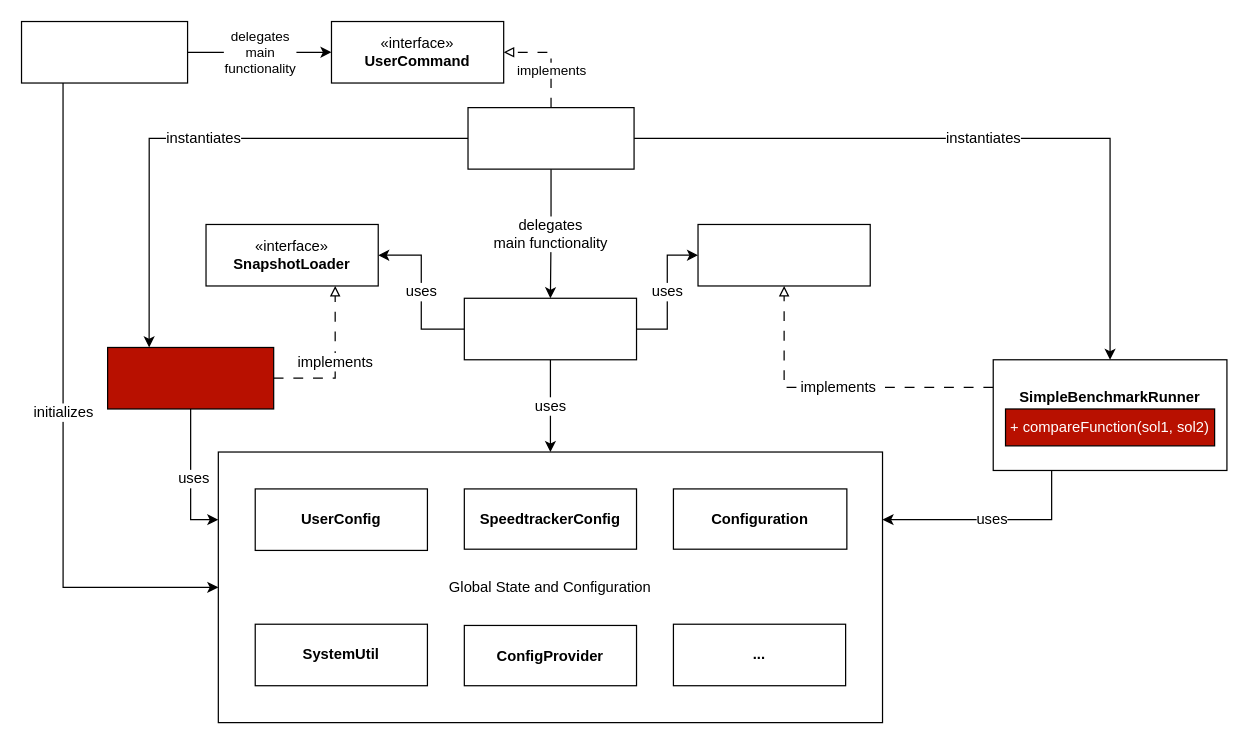
This 1248x744 diagram has some shape labels left out. The shapes that lost their labels are listed below. From the top down, each one's centre as x and y in pixels, then its label:
At pixel 104 51: "speedtracker.m".
At pixel 550 137: "RunCommand".
At pixel 783 254: "«interface» BenchmarkRunner".
At pixel 550 328: "Speedtracker".
At pixel 190 377: "GitSnapshotManager".
